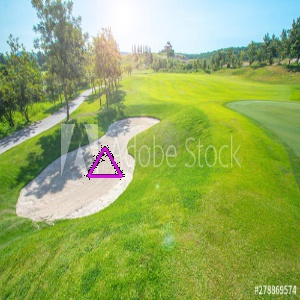triangle: (85, 145, 125, 180)
